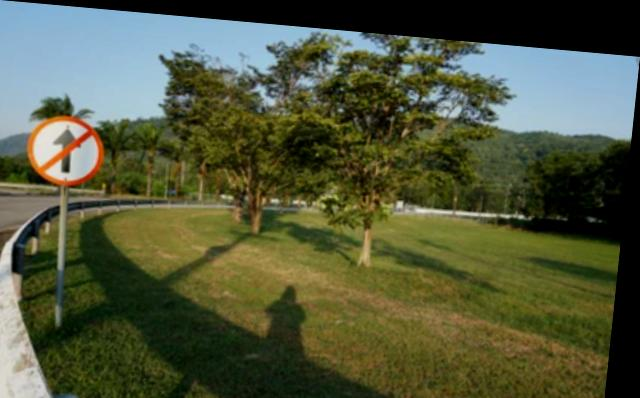not_go_straight: (27, 108, 111, 191)
